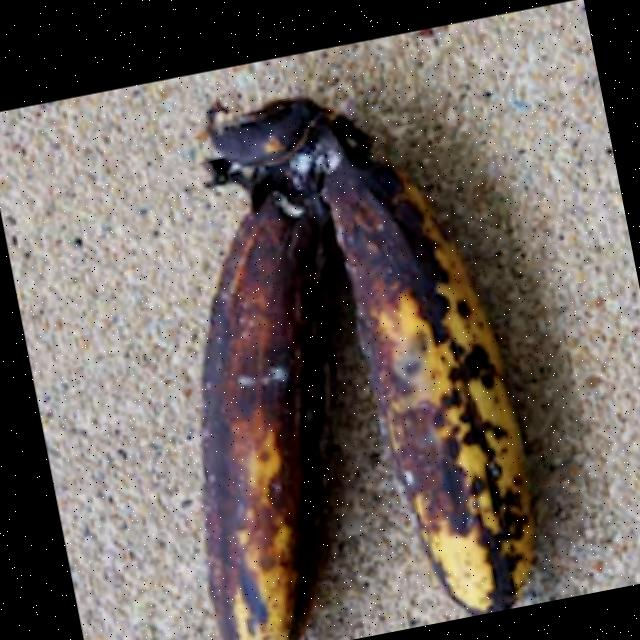Rotten: (298, 103, 576, 632), (103, 155, 402, 640)
